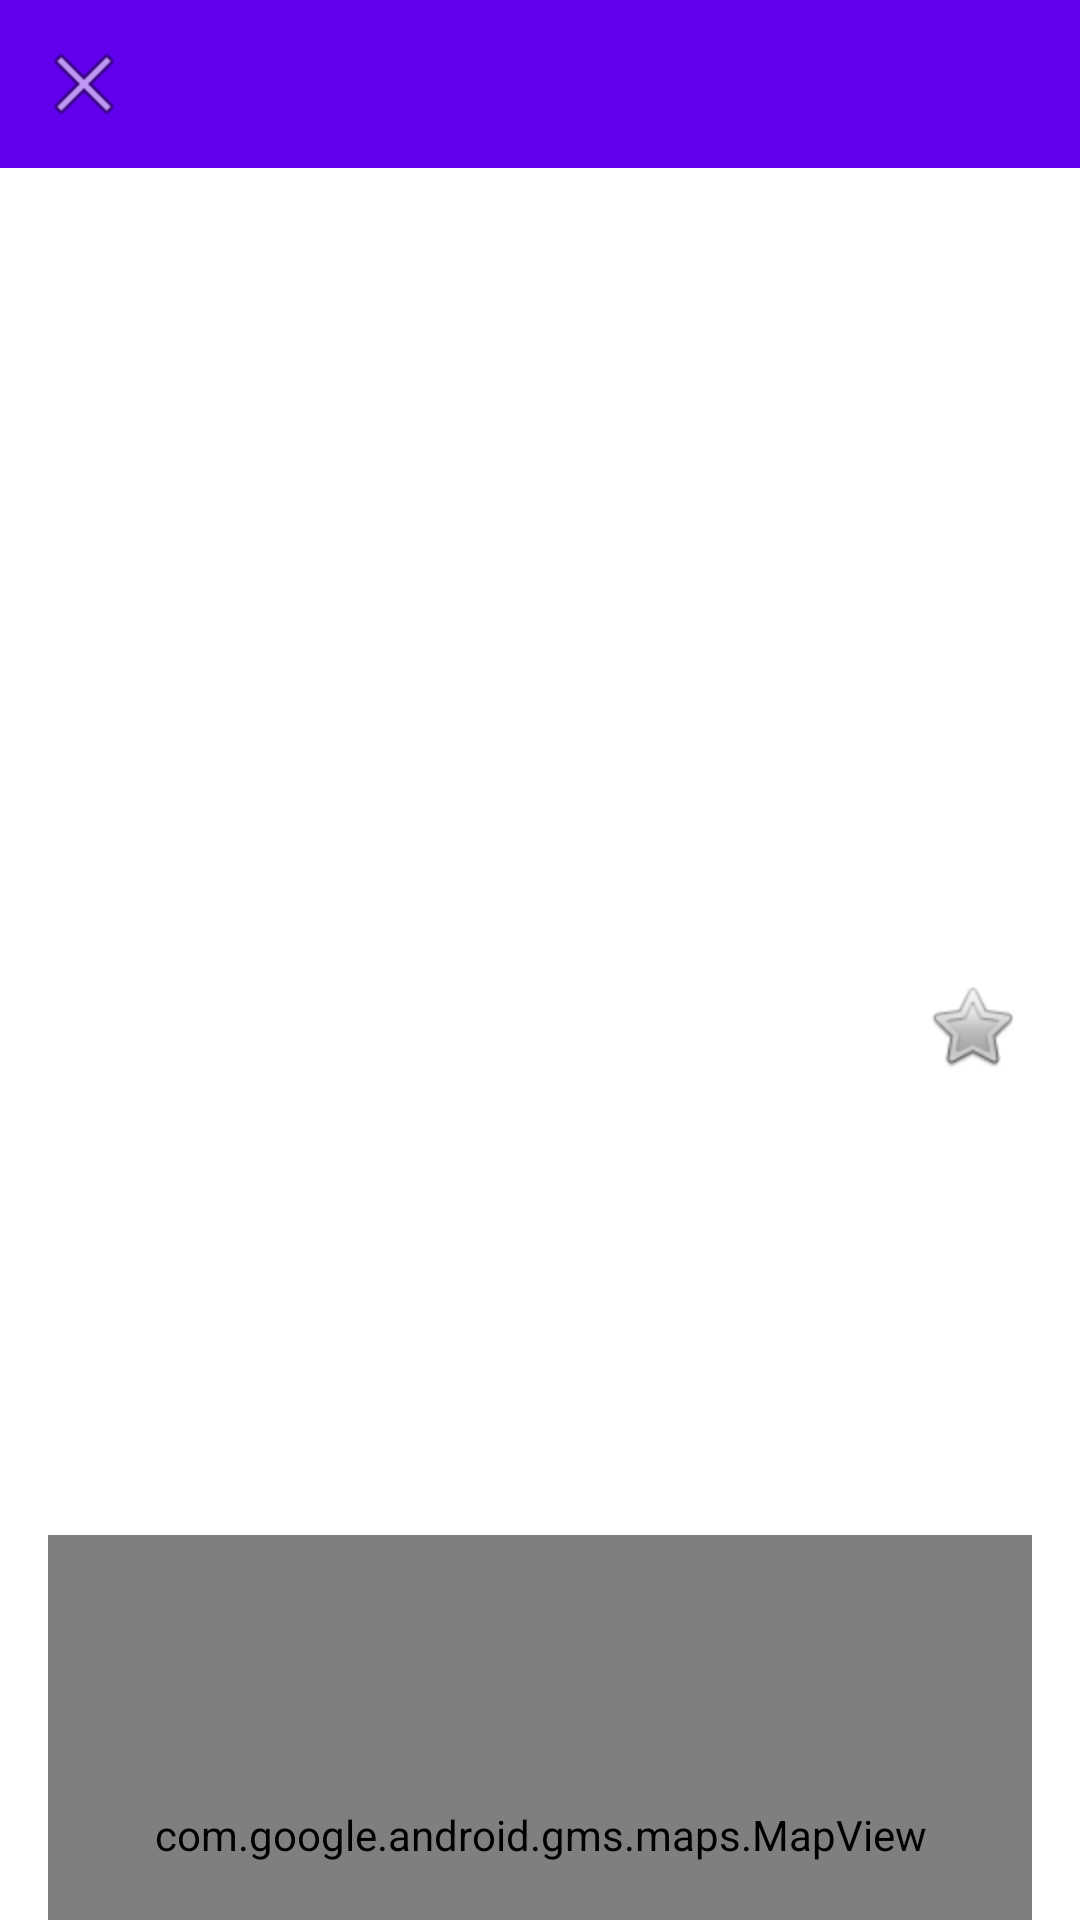

Screen size 1080x1920. Icon name, then its center in pixels as point (x, y):
Toggle Favorite: point (973, 1027)
